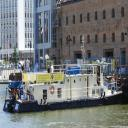tugboat: (4, 54, 125, 117)
